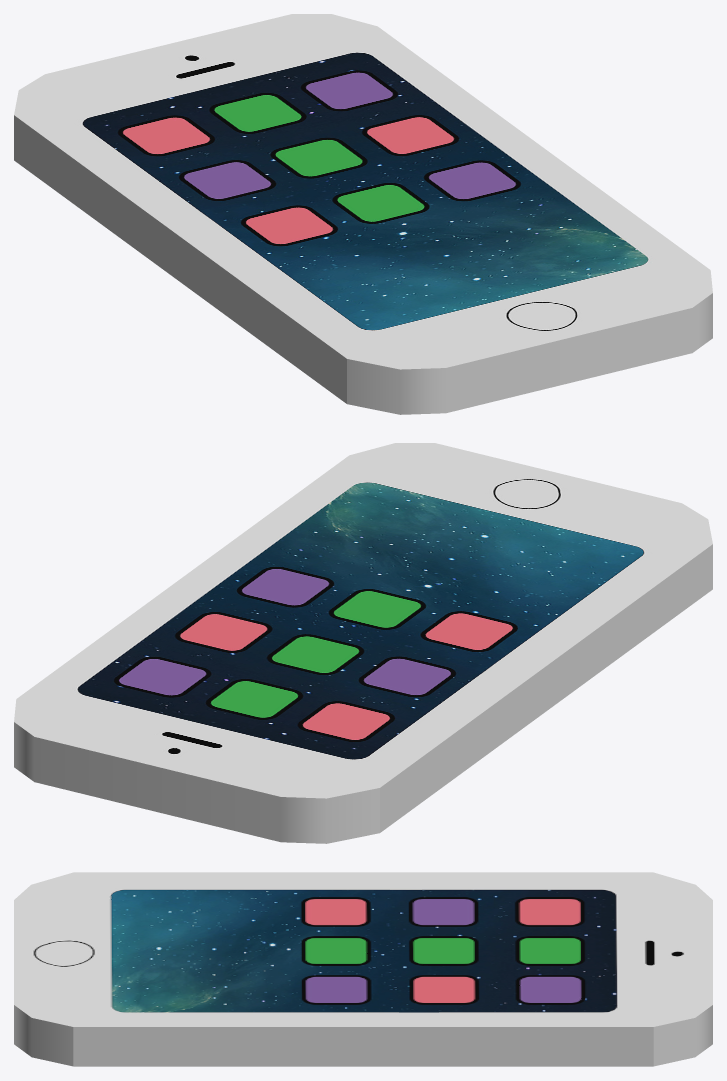
File: Phone.fbx
3 views of the same model, one above another, from view 1: azimuth 30°, elevation 25°; view 2: azimuth 150°, elevation 25°; view 3: azimuth 270°, elevation 25° (orthographic). The views are drawn at different scales.
Parts seen in each view (by area): view 1: pCube1; view 2: pCube1; view 3: pCube1.
Part boxes in pixels (x1,y1,x2,y2): pCube1: (14, 14, 712, 414); pCube1: (14, 443, 712, 843); pCube1: (14, 872, 712, 1066).
Size of the model in its own units: 1.55 by 0.1851 by 2.97.
